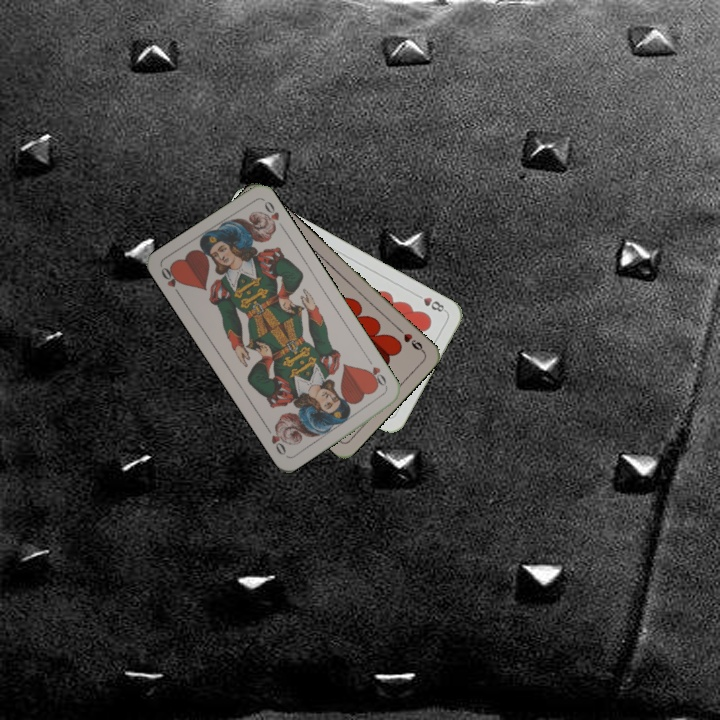H8: (411, 290, 449, 315)
H9: (394, 323, 427, 355)
HO: (362, 354, 390, 391), (157, 263, 184, 300)
